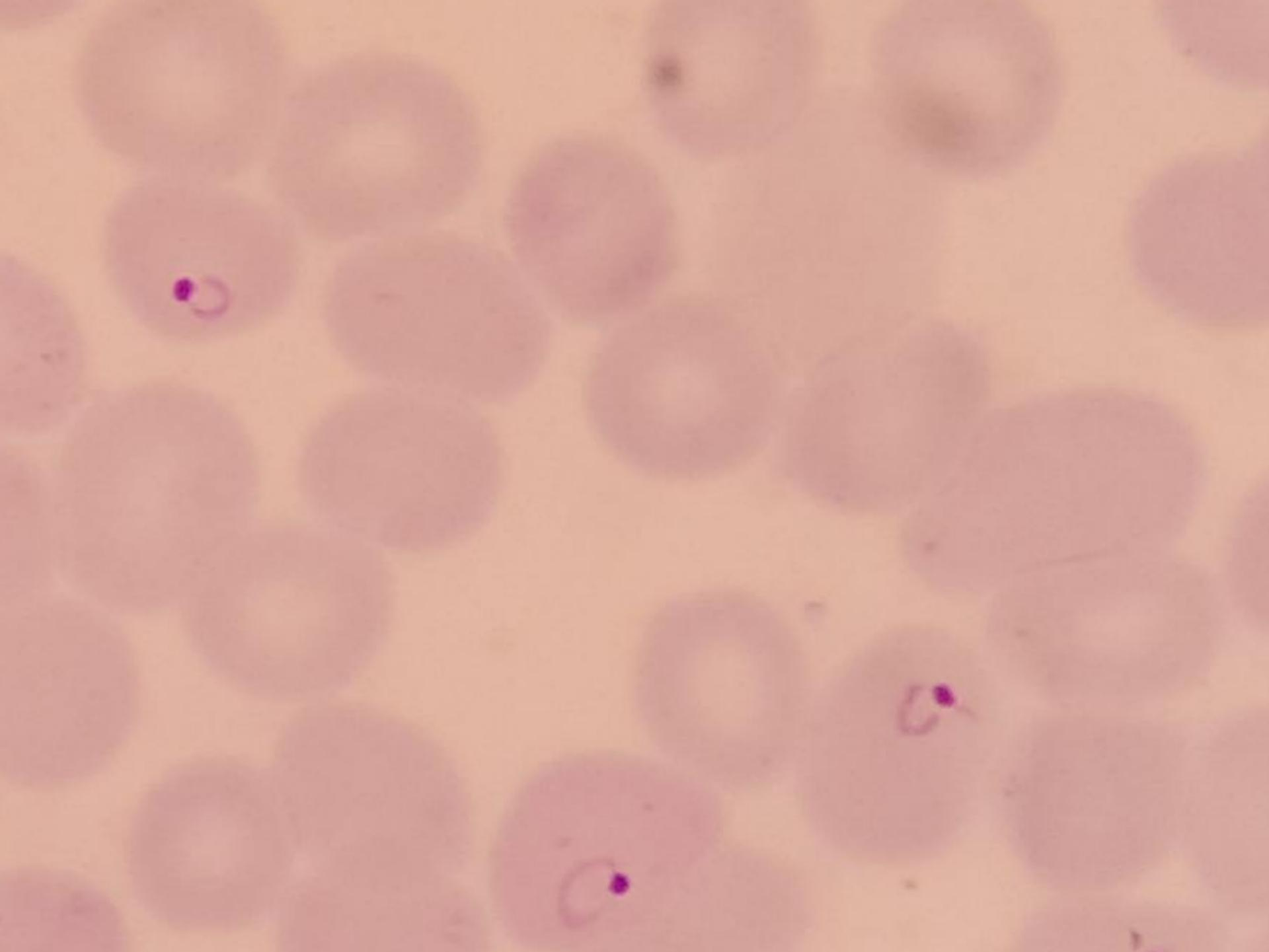Infected: (489, 749, 718, 952), (808, 625, 993, 867), (96, 180, 304, 345)
Uninfected: (902, 392, 1200, 606), (63, 379, 256, 612), (266, 55, 481, 248), (264, 706, 475, 896), (628, 583, 816, 796), (172, 526, 399, 701), (582, 297, 785, 488), (76, 2, 286, 182), (791, 327, 994, 513), (324, 238, 546, 400), (297, 380, 504, 547), (986, 564, 1224, 705), (866, 0, 1063, 170), (1010, 712, 1186, 887), (509, 134, 678, 316), (126, 762, 295, 932), (641, 0, 814, 163), (0, 600, 140, 784), (1134, 149, 1269, 337)
